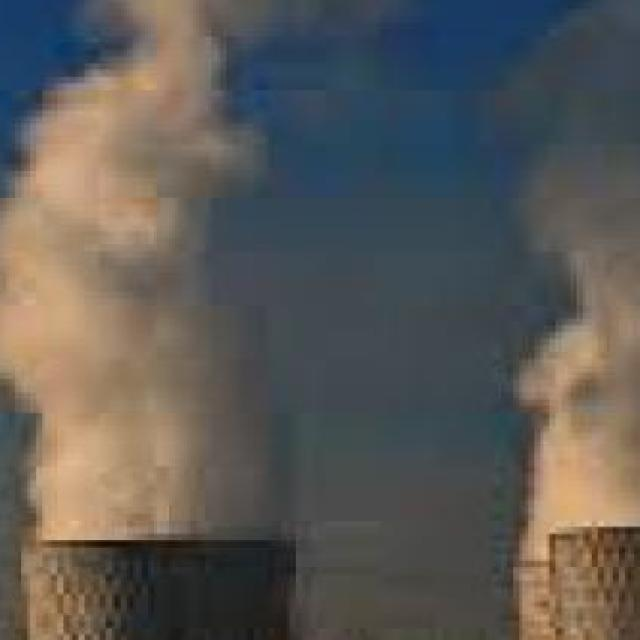Smoke: (2, 0, 296, 535), (519, 53, 640, 560)
